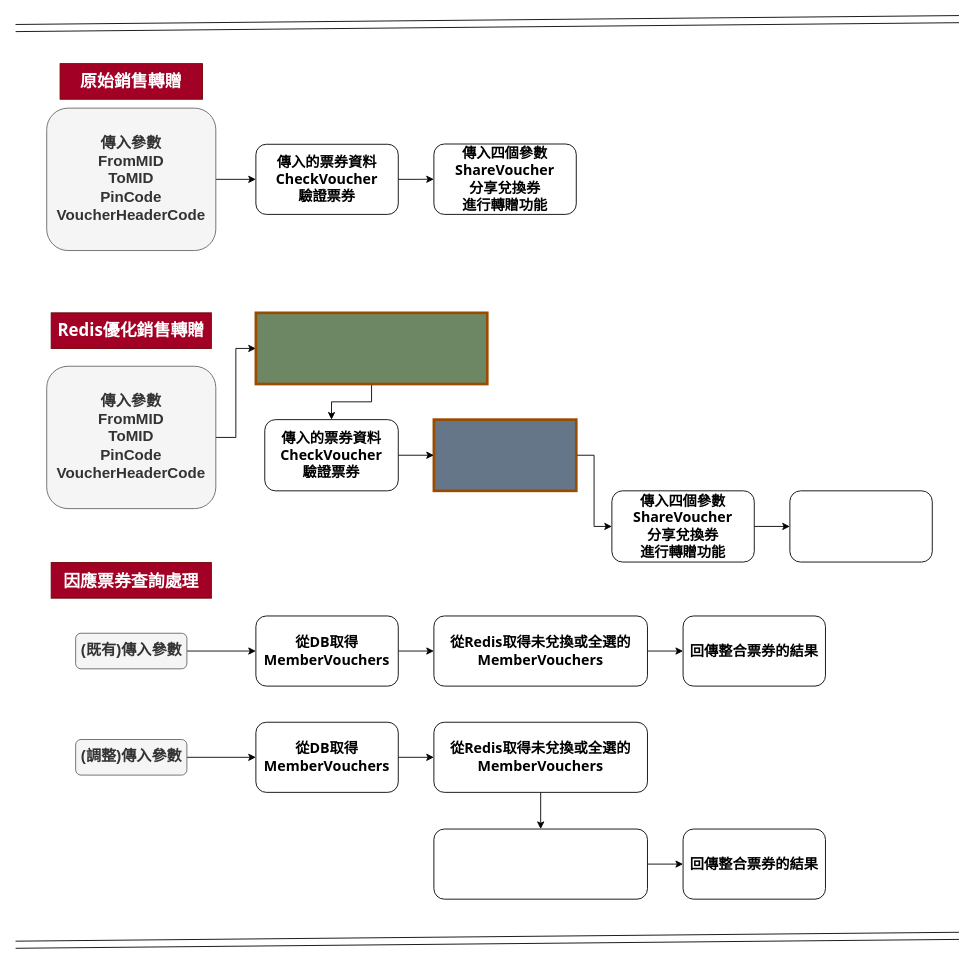
Image size: 975x964. Some labels were removed from this diagram. Here are the shapes that lost their labels. From the top down, the box of each, then its label:
(254, 311, 488, 385): 將四個參數丟上 Redis與Queus Key FromMID Hash Key PinCode
(432, 418, 577, 492): WinService排程 解析 Queus 上資訊
(789, 490, 932, 562): 行為結束後 刪除Redis上該筆資料
(433, 828, 647, 899): 從Redis取得轉贈中的MemberVouchers
